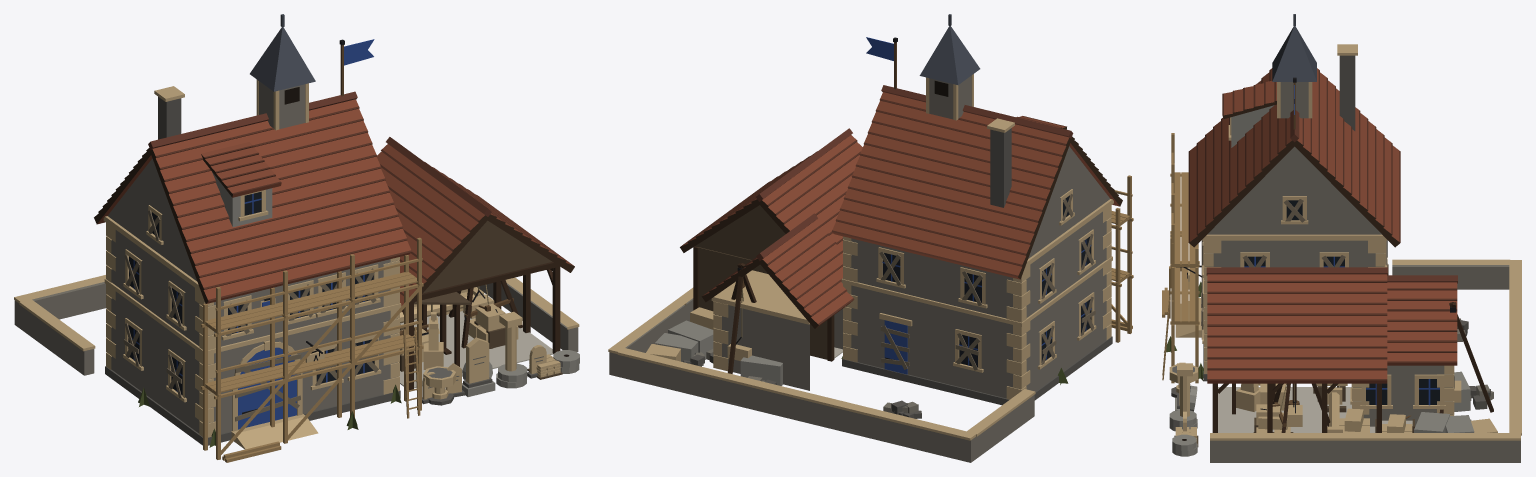
The model's file is steinmetz.glb.
3 renders of one model, left to right at view 1: azimuth 30°, elevation 25°; view 2: azimuth 150°, elevation 25°; view 3: azimuth 270°, elevation 25°, orthographic. The views are drawn at different scales.
Parts seen in each view (by area): view 1: Haus, Stufe3, Geruest, Stufe1, Stufe2, Leerstand, Fahne; view 2: Haus, Stufe3, Stufe1, Stufe2, Leerstand, Geruest, Fahne; view 3: Stufe3, Haus, Stufe1, Stufe2, Geruest, Leerstand.
Part boxes in pixels (left/top/right/bottom): Haus: left=94, top=86, right=411, bottom=449; Stufe3: left=250, top=14, right=579, bottom=405; Geruest: left=201, top=237, right=423, bottom=462; Stufe1: left=14, top=275, right=579, bottom=404; Stufe2: left=201, top=142, right=522, bottom=362; Leerstand: left=123, top=210, right=401, bottom=447; Fahne: left=339, top=39, right=374, bottom=96; Haus: left=831, top=85, right=1122, bottom=405; Stufe3: left=610, top=14, right=980, bottom=418; Stufe1: left=608, top=287, right=1035, bottom=462; Stufe2: left=654, top=116, right=1066, bottom=390; Leerstand: left=841, top=193, right=1095, bottom=384; Geruest: left=1111, top=175, right=1133, bottom=342; Fahne: left=866, top=37, right=897, bottom=89; Stufe3: left=1169, top=14, right=1520, bottom=462; Haus: left=1175, top=44, right=1400, bottom=381; Stufe1: left=1169, top=259, right=1521, bottom=462; Stufe2: left=1222, top=81, right=1493, bottom=432; Geruest: left=1162, top=133, right=1199, bottom=383; Leerstand: left=1164, top=198, right=1388, bottom=380.
Bounding box in the file's own units: 16 × 14.06 × 13.62.
